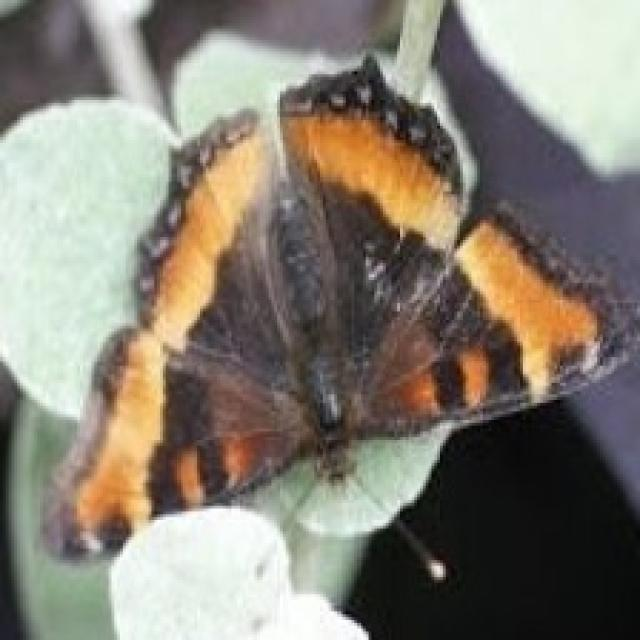butterfly: (37, 51, 637, 594)
